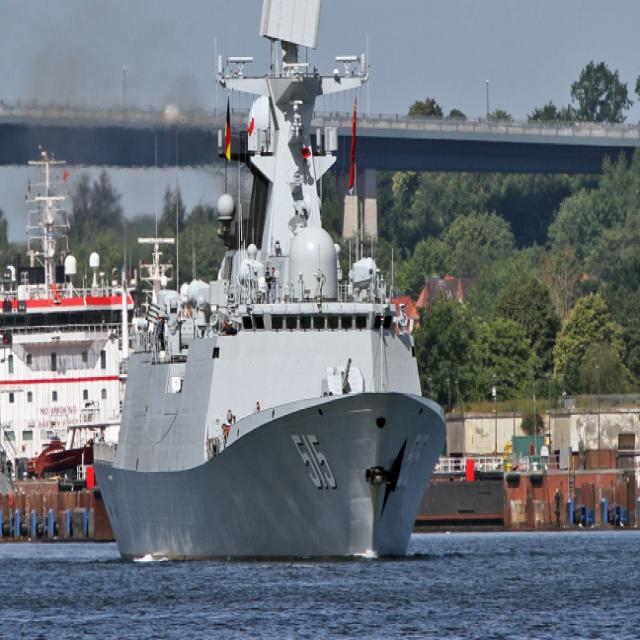Fragata: (90, 1, 453, 572)
